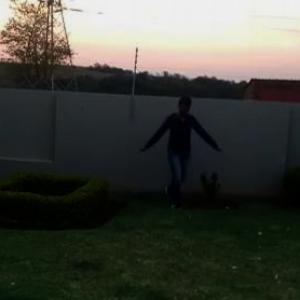land: (137, 97, 221, 215)
